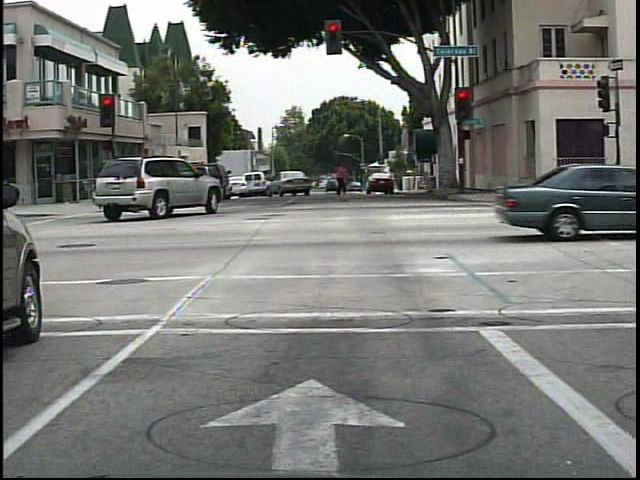person: (330, 157, 357, 207)
